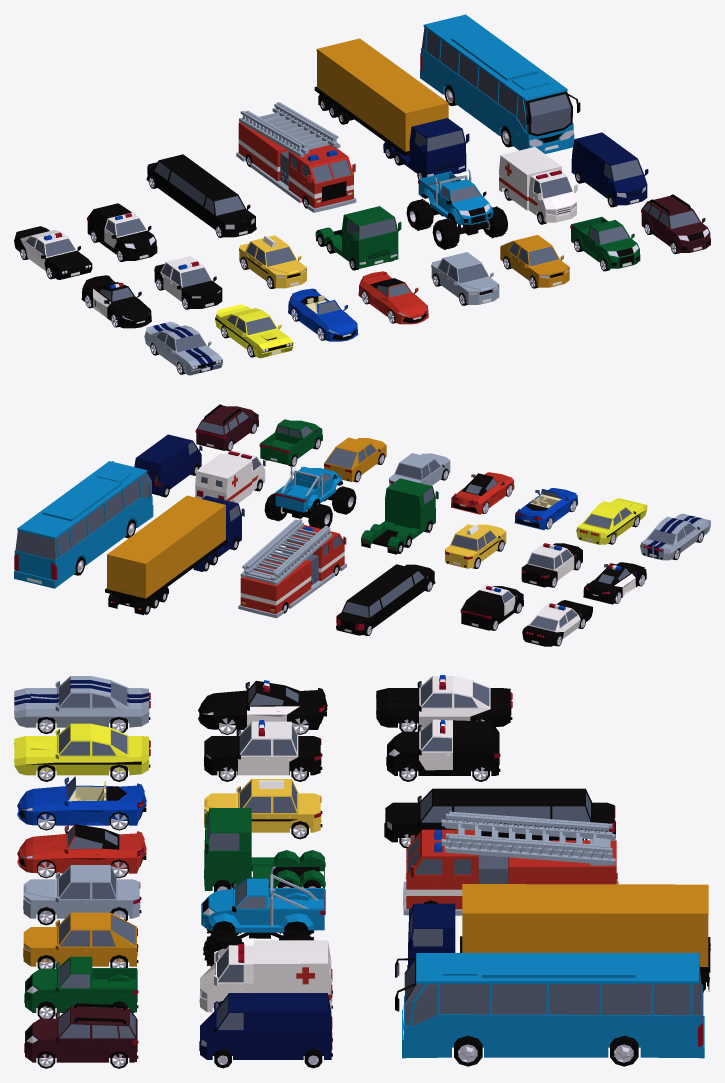
Rendered from cars.glb.
The picture shows the model from 3 angles, top to bottom: view 1: azimuth 30°, elevation 25°; view 2: azimuth 150°, elevation 25°; view 3: azimuth 270°, elevation 25°; orthographic projection. The views are drawn at different scales.
Visible parts, largest first — view 1: Bus, Truck with trailer, Firetruck, Limousine, Ambulance, Van, Truck, Monster Truck, SUV, Police SUV, Muscle 2, Muscle (+11 smaller); view 2: Bus, Truck with trailer, Firetruck, Limousine, Truck, Ambulance, Van, Monster Truck, Muscle, Muscle 2, Police Muscle, SUV (+11 smaller); view 3: Bus, Truck with trailer, Firetruck, Van, Limousine, Ambulance, Monster Truck, Muscle, Truck, SUV, Muscle 2, Police SUV (+12 smaller).
Part boxes in pixels (x1,y1,x2,y2): Bus: (420,14,580,153); Truck with trailer: (314,38,469,177); Firetruck: (236,102,356,212); Limousine: (146,154,256,237); Ambulance: (499,147,577,222); Van: (571,132,648,205); Truck: (315,206,401,268); Monster Truck: (418,169,493,235); SUV: (641,194,710,252); Police SUV: (87,203,157,260); Muscle 2: (144,321,222,375); Muscle: (215,304,293,358); Bus: (14,461,158,588); Truck with trailer: (105,495,244,615); Firetruck: (238,519,346,618); Limousine: (336,564,435,635); Truck: (361,478,438,554); Ambulance: (195,450,265,503); Van: (134,434,202,495); Monster Truck: (275,466,343,518); Muscle: (576,498,647,544); Muscle 2: (640,513,710,560); Police Muscle: (522,600,592,646); SUV: (195,404,258,450); Bus: (395,953,704,1058); Truck with trailer: (407,884,710,991); Firetruck: (403,811,618,915); Van: (199,993,332,1059); Limousine: (384,788,615,842); Ambulance: (199,940,332,1013); Monster Truck: (201,866,325,938); Muscle: (14,723,150,775); Truck: (204,808,325,890); SUV: (24,1003,138,1062); Muscle 2: (14,676,150,727); Police SUV: (386,719,500,775).
Bounding box in the file's own units: 37.81 × 4.3 × 30.82.
